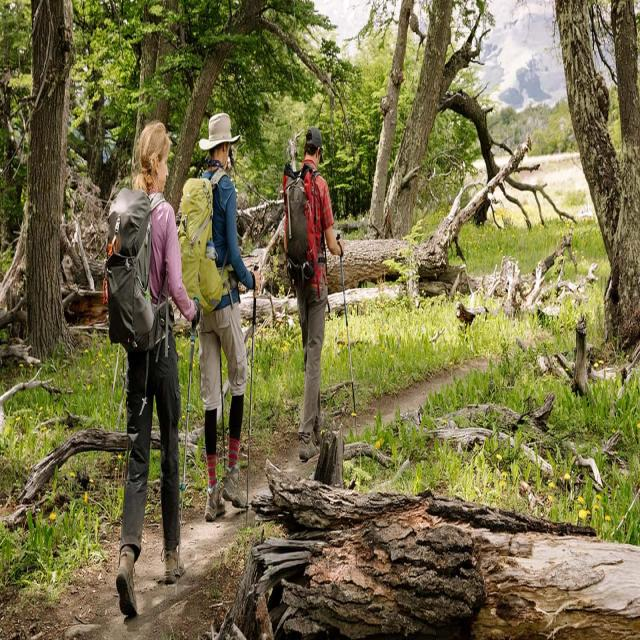backpack: (103, 188, 173, 355), (177, 169, 229, 315), (284, 162, 323, 286)
